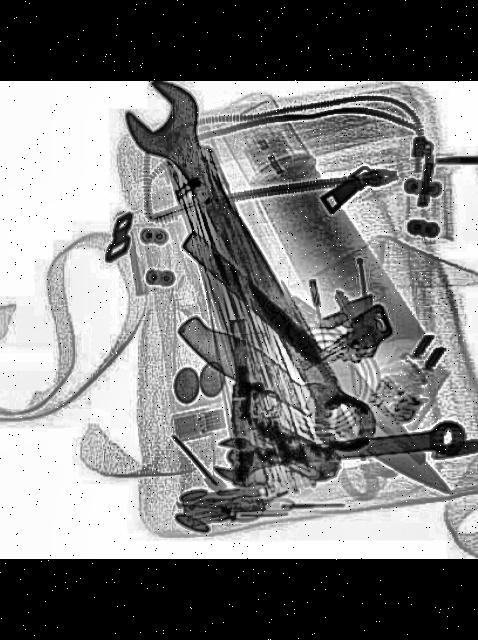Gun: (222, 321, 342, 485)
Knife: (179, 227, 443, 471), (168, 310, 470, 506)
Wrench: (119, 82, 391, 462), (211, 414, 468, 490)
